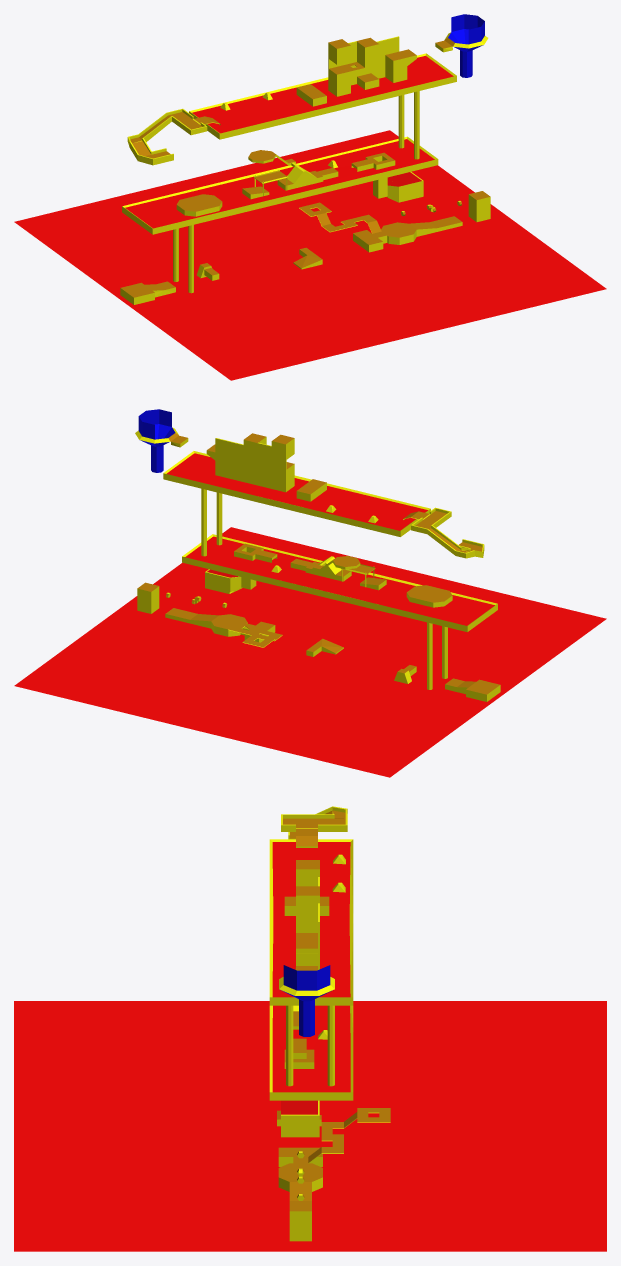
Rendered from bifs_segment7.0x11E98.collision.obj.
3 views of the same model, one above another, from view 1: azimuth 30°, elevation 25°; view 2: azimuth 150°, elevation 25°; view 3: azimuth 270°, elevation 25° (orthographic). The views are drawn at different scales.
Visible parts, largest first — view 1: bifs_segment7_11E98_lethal_lava, bifs_segment7_11E98_normal, bifs_segment7_11E98_climbable, bifs_segment7_11E98_very_slippery; view 2: bifs_segment7_11E98_lethal_lava, bifs_segment7_11E98_normal, bifs_segment7_11E98_climbable, bifs_segment7_11E98_very_slippery; view 3: bifs_segment7_11E98_lethal_lava, bifs_segment7_11E98_normal, bifs_segment7_11E98_climbable, bifs_segment7_11E98_very_slippery.
Boxes of the visible parts, box(x1,y1,x2,y2) form: bifs_segment7_11E98_lethal_lava: box(14, 56, 606, 380); bifs_segment7_11E98_normal: box(120, 32, 490, 304); bifs_segment7_11E98_climbable: box(121, 37, 490, 297); bifs_segment7_11E98_very_slippery: box(448, 14, 484, 77); bifs_segment7_11E98_lethal_lava: box(14, 453, 606, 777); bifs_segment7_11E98_normal: box(135, 427, 500, 701); bifs_segment7_11E98_climbable: box(137, 433, 500, 694); bifs_segment7_11E98_very_slippery: box(138, 409, 175, 472); bifs_segment7_11E98_lethal_lava: box(14, 842, 606, 1251); bifs_segment7_11E98_normal: box(269, 806, 390, 1241); bifs_segment7_11E98_climbable: box(277, 810, 390, 1211); bifs_segment7_11E98_very_slippery: box(281, 965, 331, 1036).
Size of the model in its own units: 16 by 8.35 by 16.
